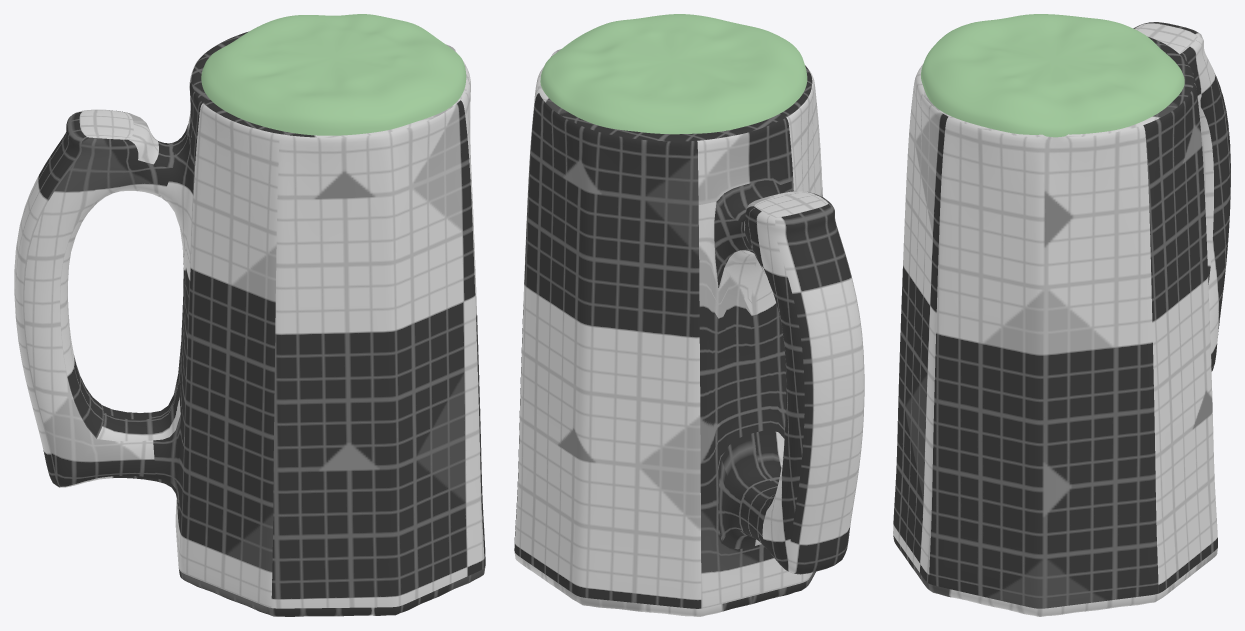
Rendered from geometries.glb.
3 views of the same model, side by side, from view 1: azimuth 30°, elevation 25°; view 2: azimuth 150°, elevation 25°; view 3: azimuth 270°, elevation 25° (orthographic).
Parts seen in each view (by area): view 1: GLASS BEER, FOAM; view 2: GLASS BEER, FOAM; view 3: GLASS BEER, FOAM.
Part boxes in pixels (bbox=[...]): GLASS BEER: bbox=[14, 31, 485, 616]; FOAM: bbox=[201, 14, 466, 135]; GLASS BEER: bbox=[514, 49, 864, 616]; FOAM: bbox=[540, 14, 807, 134]; GLASS BEER: bbox=[893, 22, 1230, 616]; FOAM: bbox=[921, 14, 1184, 137].
Bounding box in the file's own units: 0.1374 × 0.1677 × 0.1034.
3 materials, 3 textured.
